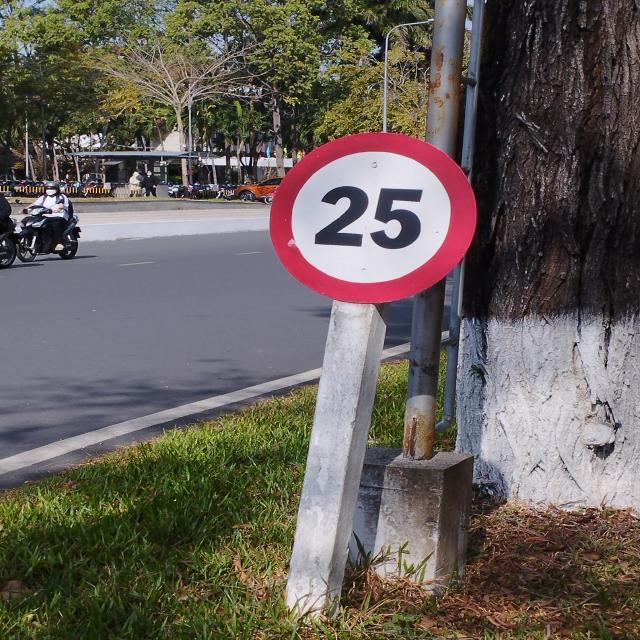Tre_Em: (268, 130, 477, 306)
